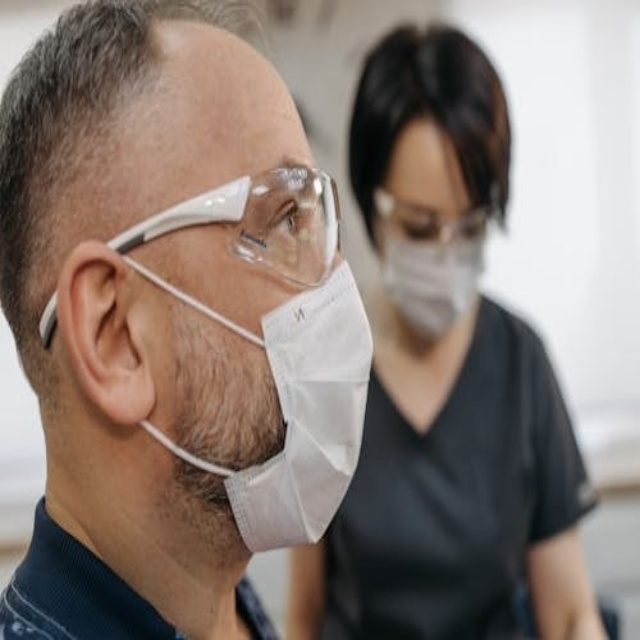Gafas: (41, 170, 344, 355), (373, 186, 496, 249)
Mascara: (213, 263, 373, 555), (378, 197, 490, 337)
